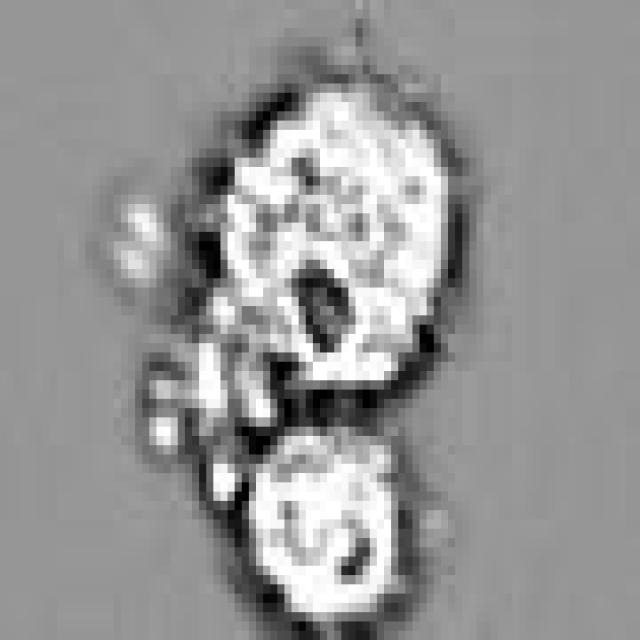Cancer Cell: (214, 65, 476, 399)
WBC: (242, 418, 405, 612)
